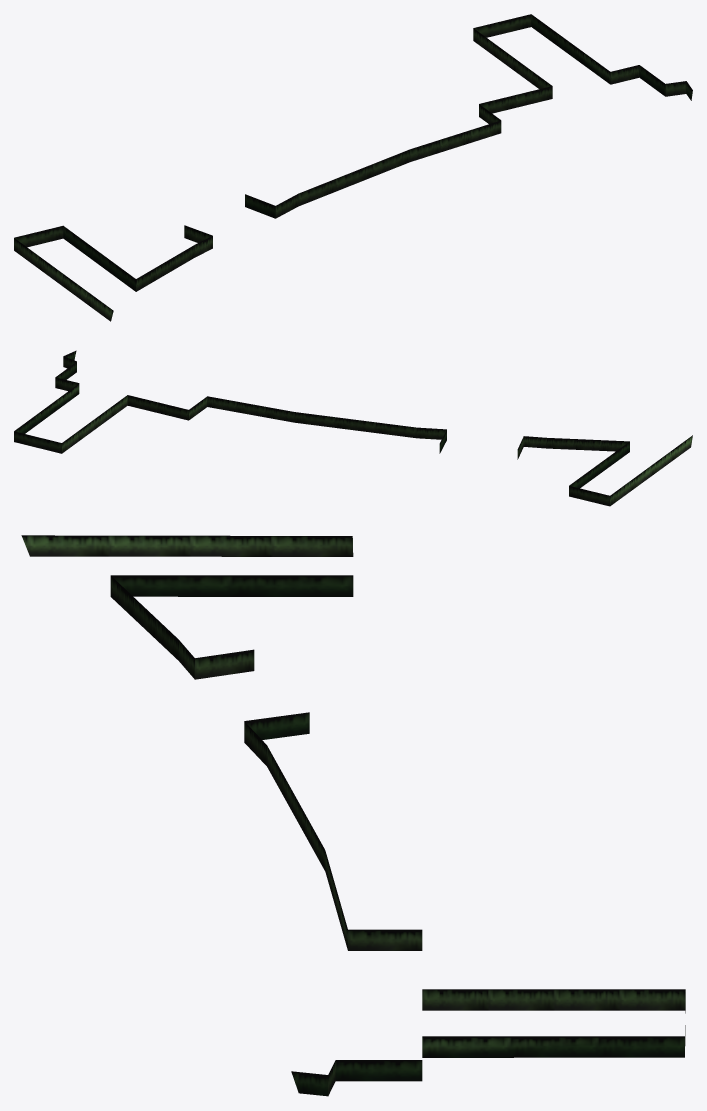
Rendered from Dam_Alpha_29.glb.
3 renders of one model, top to bottom at view 1: azimuth 30°, elevation 25°; view 2: azimuth 150°, elevation 25°; view 3: azimuth 270°, elevation 25°, orthographic. The views are drawn at different scales.
Visible parts, largest first — view 1: Dam_Alpha_29; view 2: Dam_Alpha_29; view 3: Dam_Alpha_29.
Boxes of the visible parts, box(x1,y1,x2,y2) form: Dam_Alpha_29: box(14, 14, 692, 321); Dam_Alpha_29: box(14, 350, 692, 506); Dam_Alpha_29: box(21, 535, 685, 1096).
Size of the model in its own units: 337 by 6.25 by 175.
1 material, 1 textured.
